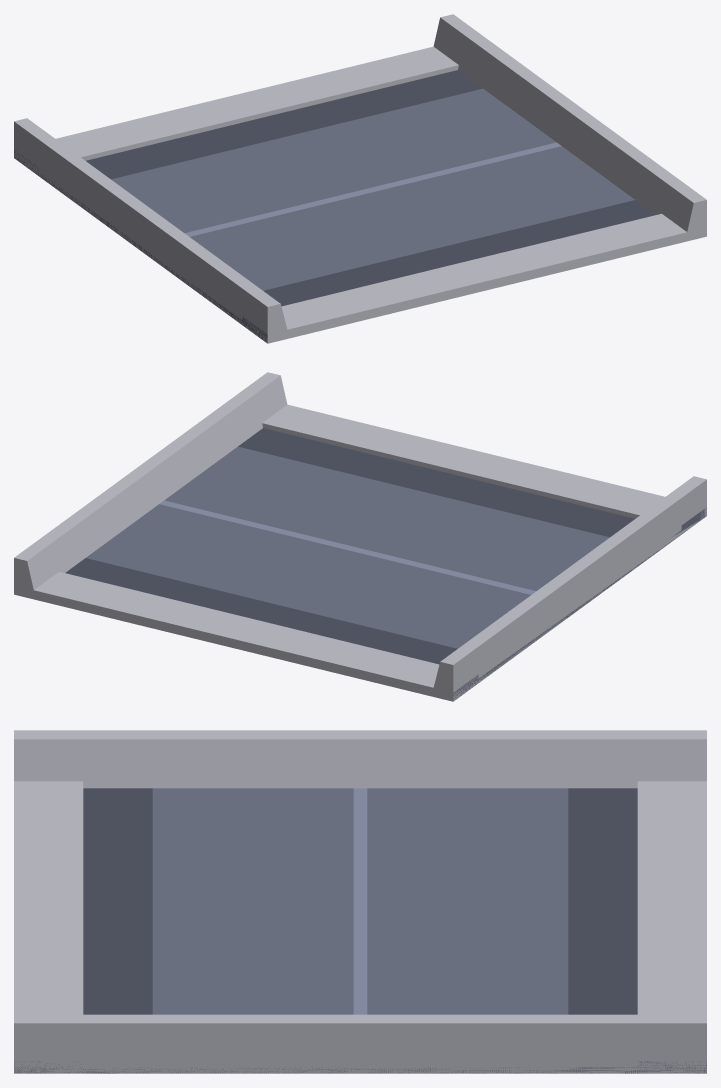
Rendered from kenney-road-barrier.glb.
The picture shows the model from 3 angles, top to bottom: view 1: azimuth 30°, elevation 25°; view 2: azimuth 150°, elevation 25°; view 3: azimuth 270°, elevation 25°; orthographic projection. The views are drawn at different scales.
Parts seen in each view (by area): view 1: road_straightBarrier; view 2: road_straightBarrier; view 3: road_straightBarrier.
Boxes of the visible parts, <box> form: road_straightBarrier: <box>14,14,706,343</box>; road_straightBarrier: <box>14,372,706,701</box>; road_straightBarrier: <box>14,730,706,1073</box>.
Bounding box in the file's own units: 1 × 0.08 × 1.
